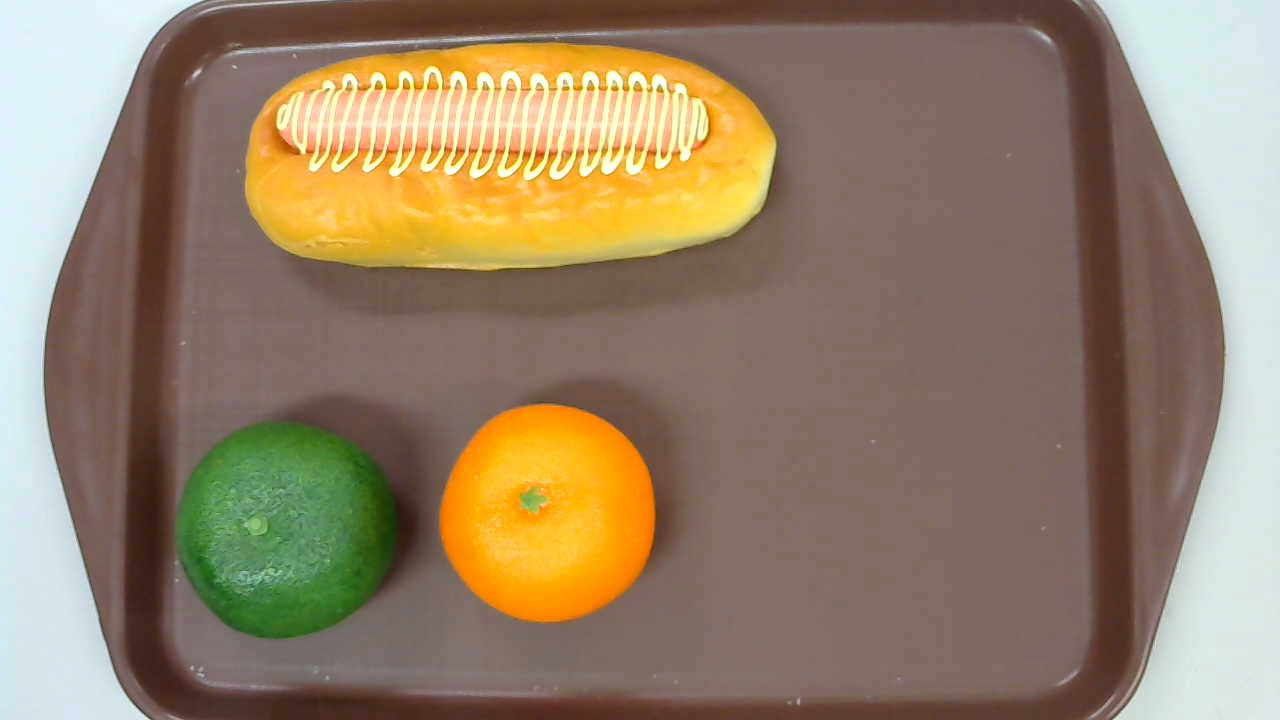green orange: (173, 421, 397, 641)
hot dog: (245, 42, 777, 273)
orange: (435, 402, 655, 623)
